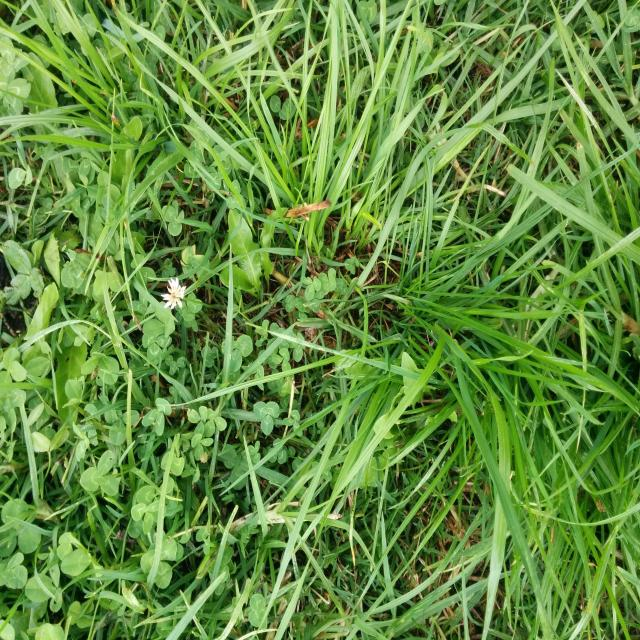Four Leaf Clover: (318, 268, 336, 295)
